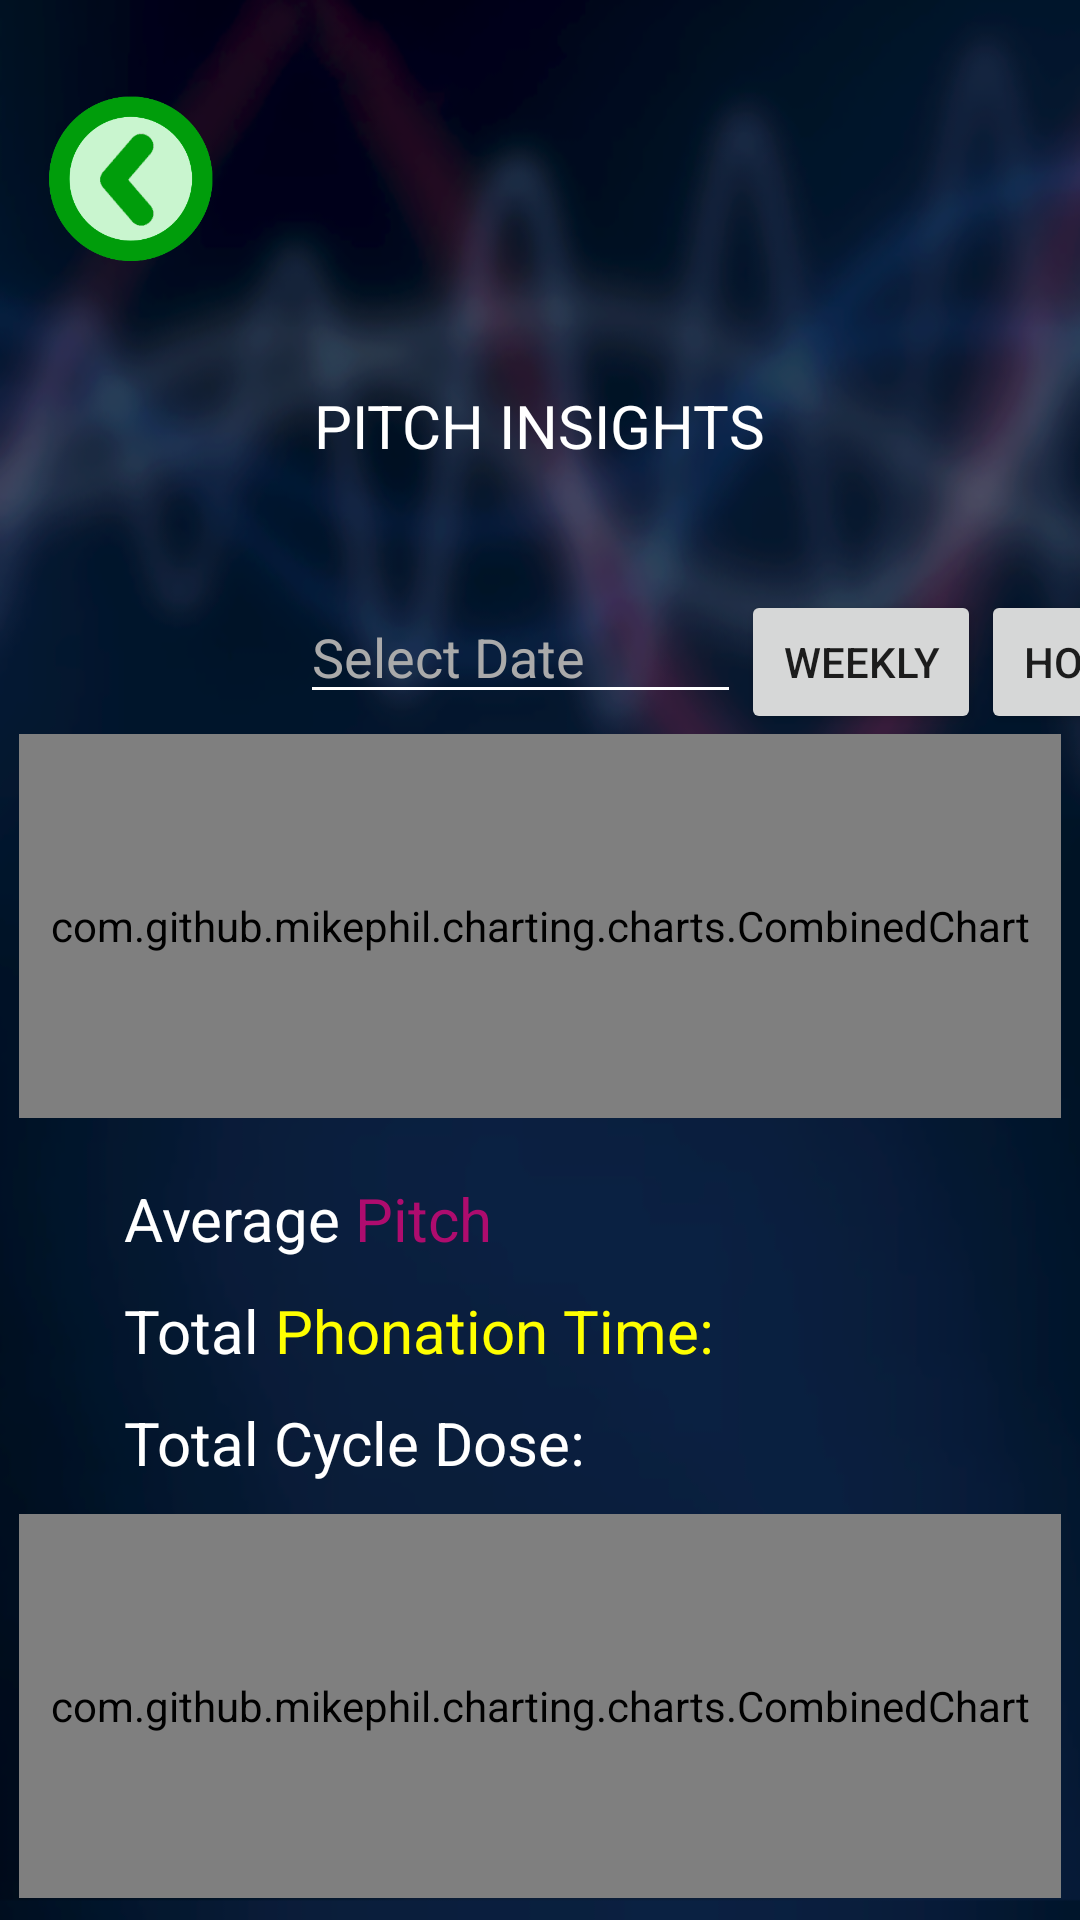

Named icons in this screenshot (1080w x 1920h) and their bounding boxes, (x1, y1, x2, y2):
graphbackicon: (49, 96, 213, 261)
